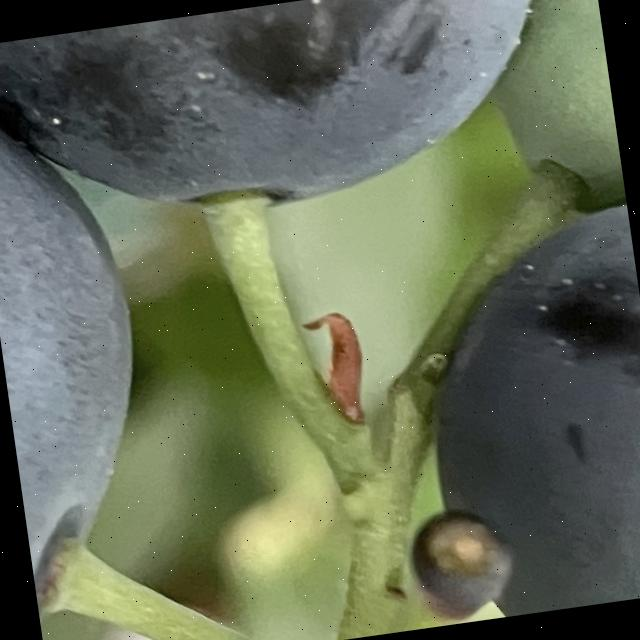Blueberries: (0, 0, 593, 261), (0, 28, 182, 640)
